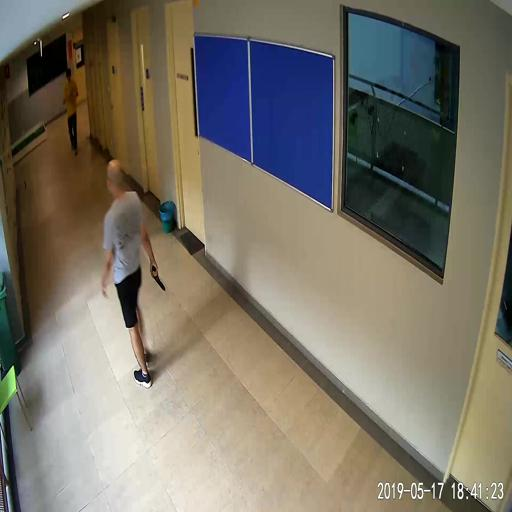pistol: (150, 261, 165, 291)
